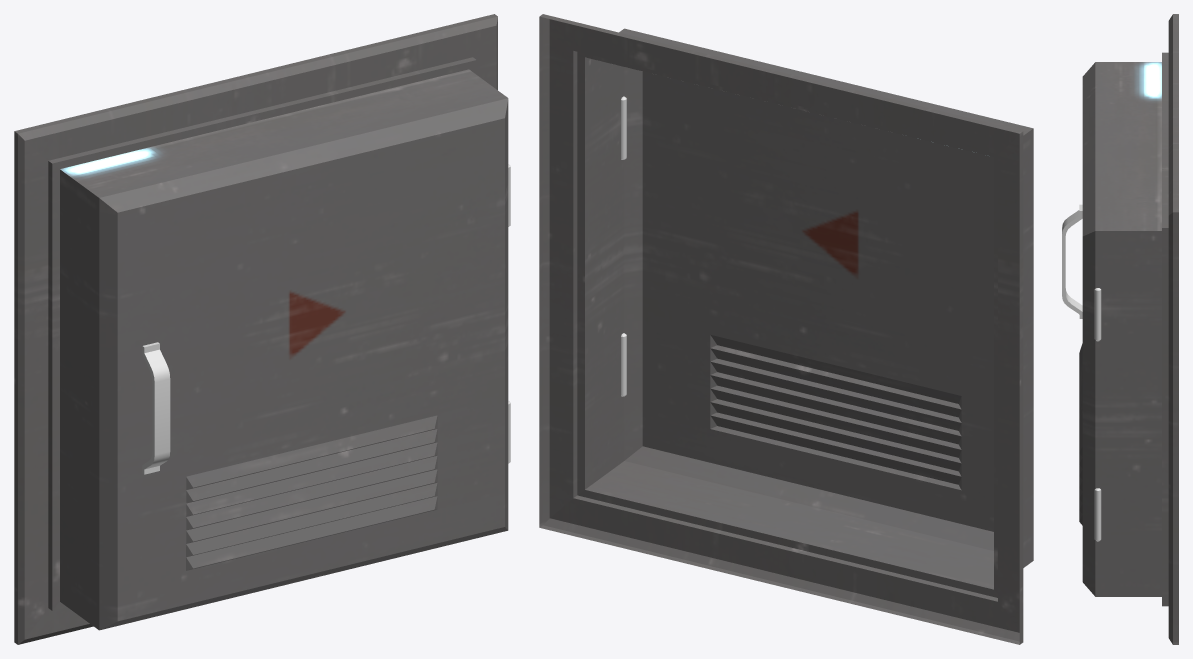
Rendered from KB3D_CBP_FuseBox_C.fbx.
3 renders of one model, left to right at view 1: azimuth 30°, elevation 25°; view 2: azimuth 150°, elevation 25°; view 3: azimuth 270°, elevation 25°, orthographic. The views are drawn at different scales.
Visible parts, largest first — view 1: KB3D_CBP_FuseBox_C_Main; view 2: KB3D_CBP_FuseBox_C_Main; view 3: KB3D_CBP_FuseBox_C_Main.
Boxes of the visible parts, x1,y1,x2,y2 form: KB3D_CBP_FuseBox_C_Main: [14, 14, 510, 644]; KB3D_CBP_FuseBox_C_Main: [539, 14, 1033, 644]; KB3D_CBP_FuseBox_C_Main: [1062, 14, 1178, 644].
Size of the model in its own units: 57.21 by 58.19 by 14.25.
